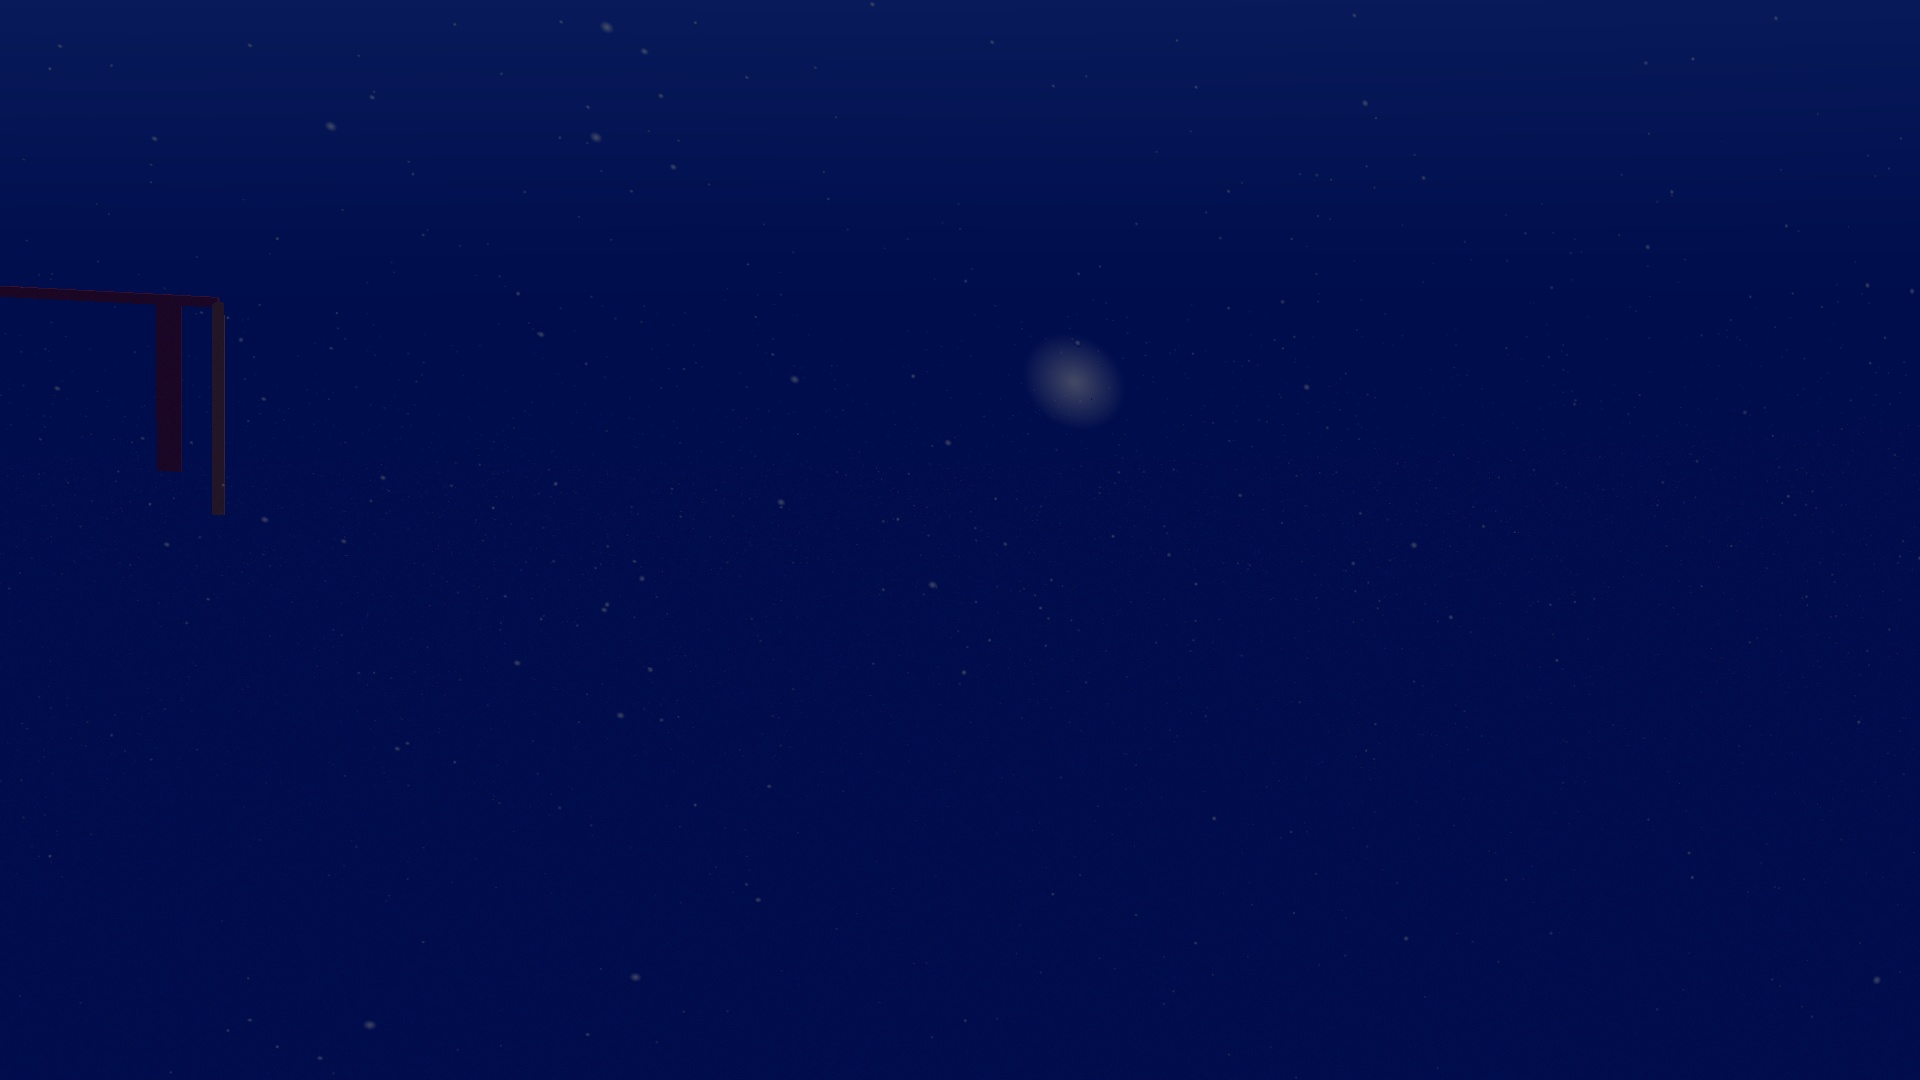Gate: (1, 280, 240, 527)
